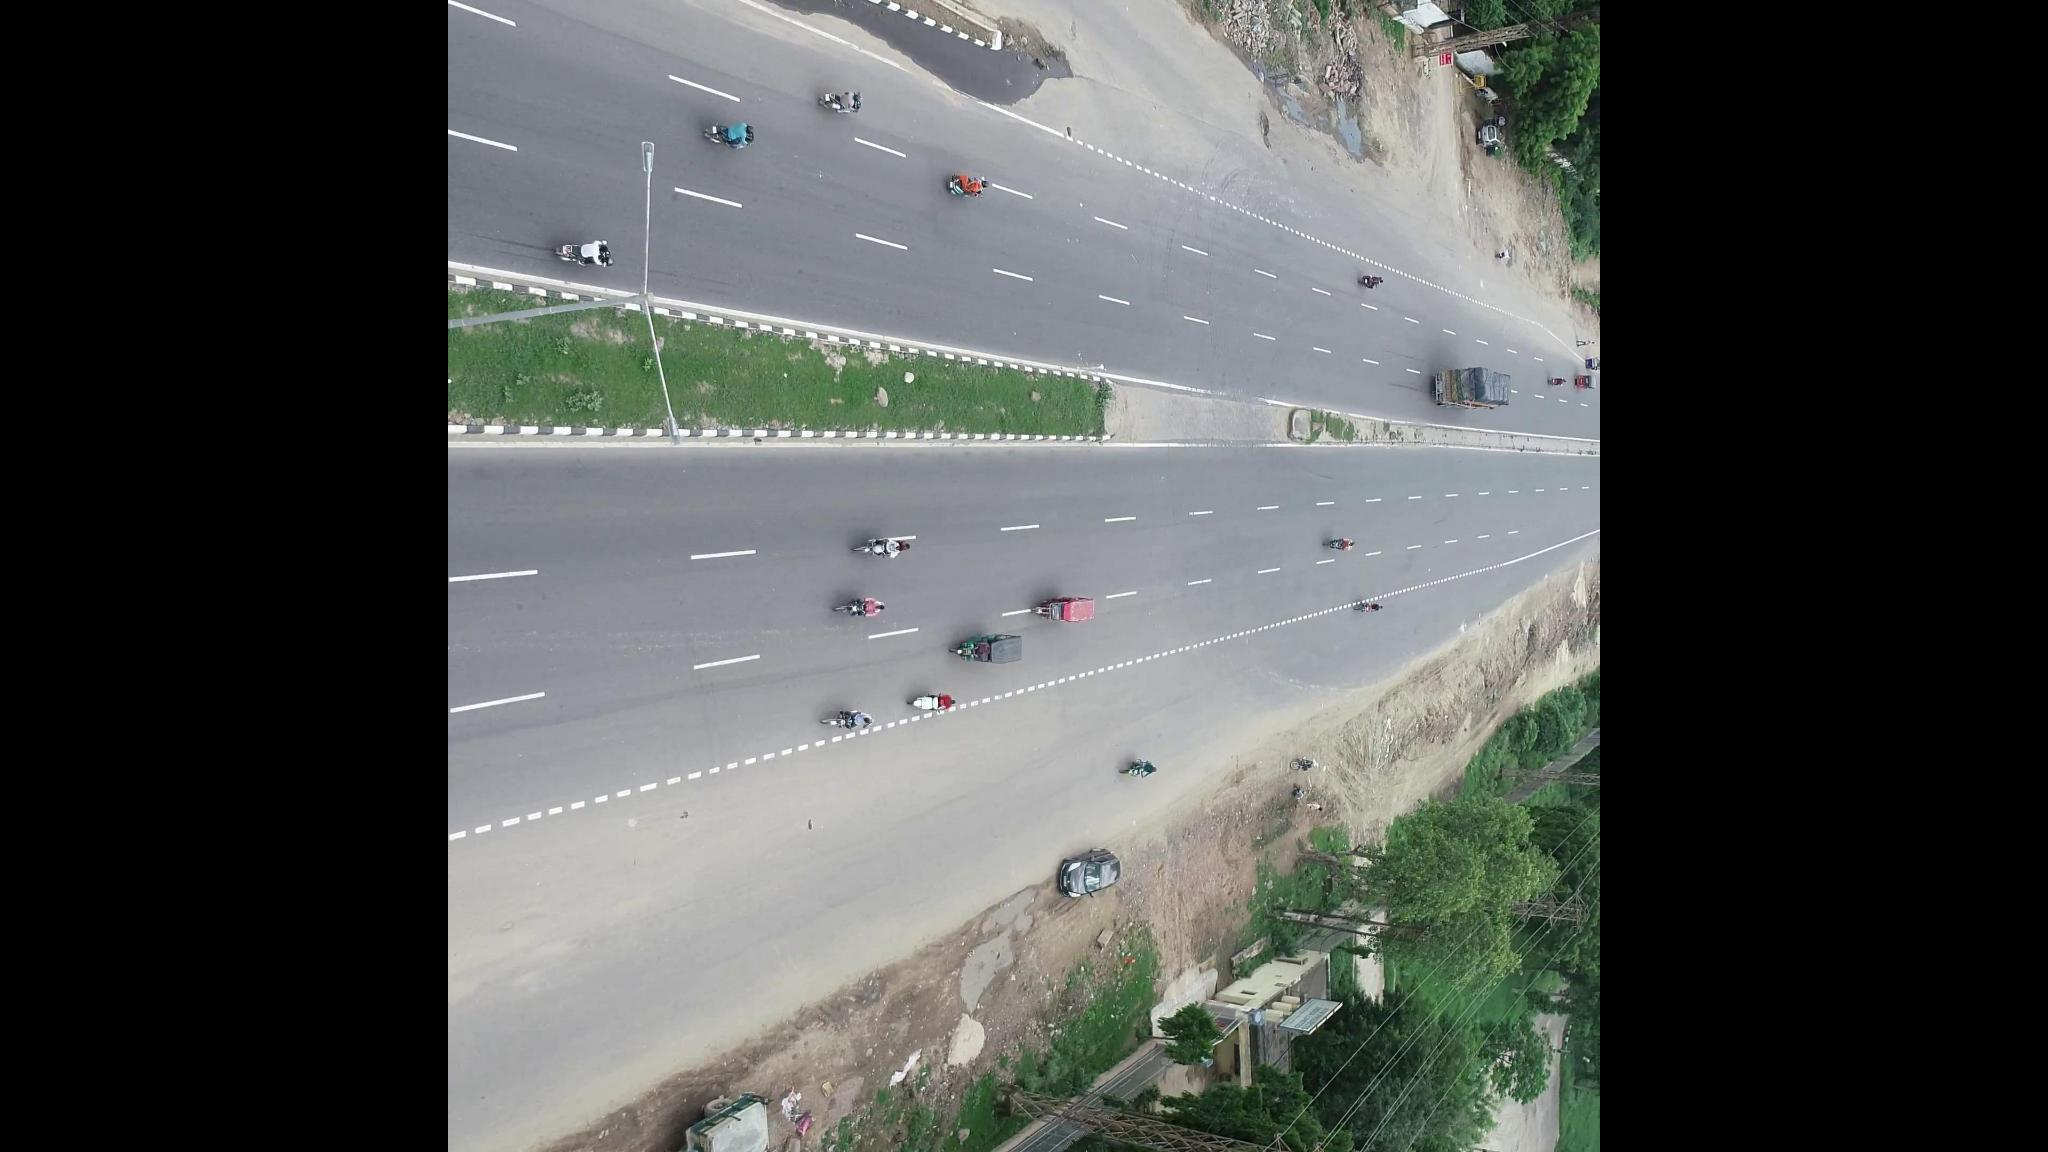Potholes: (1250, 97, 1283, 153)
